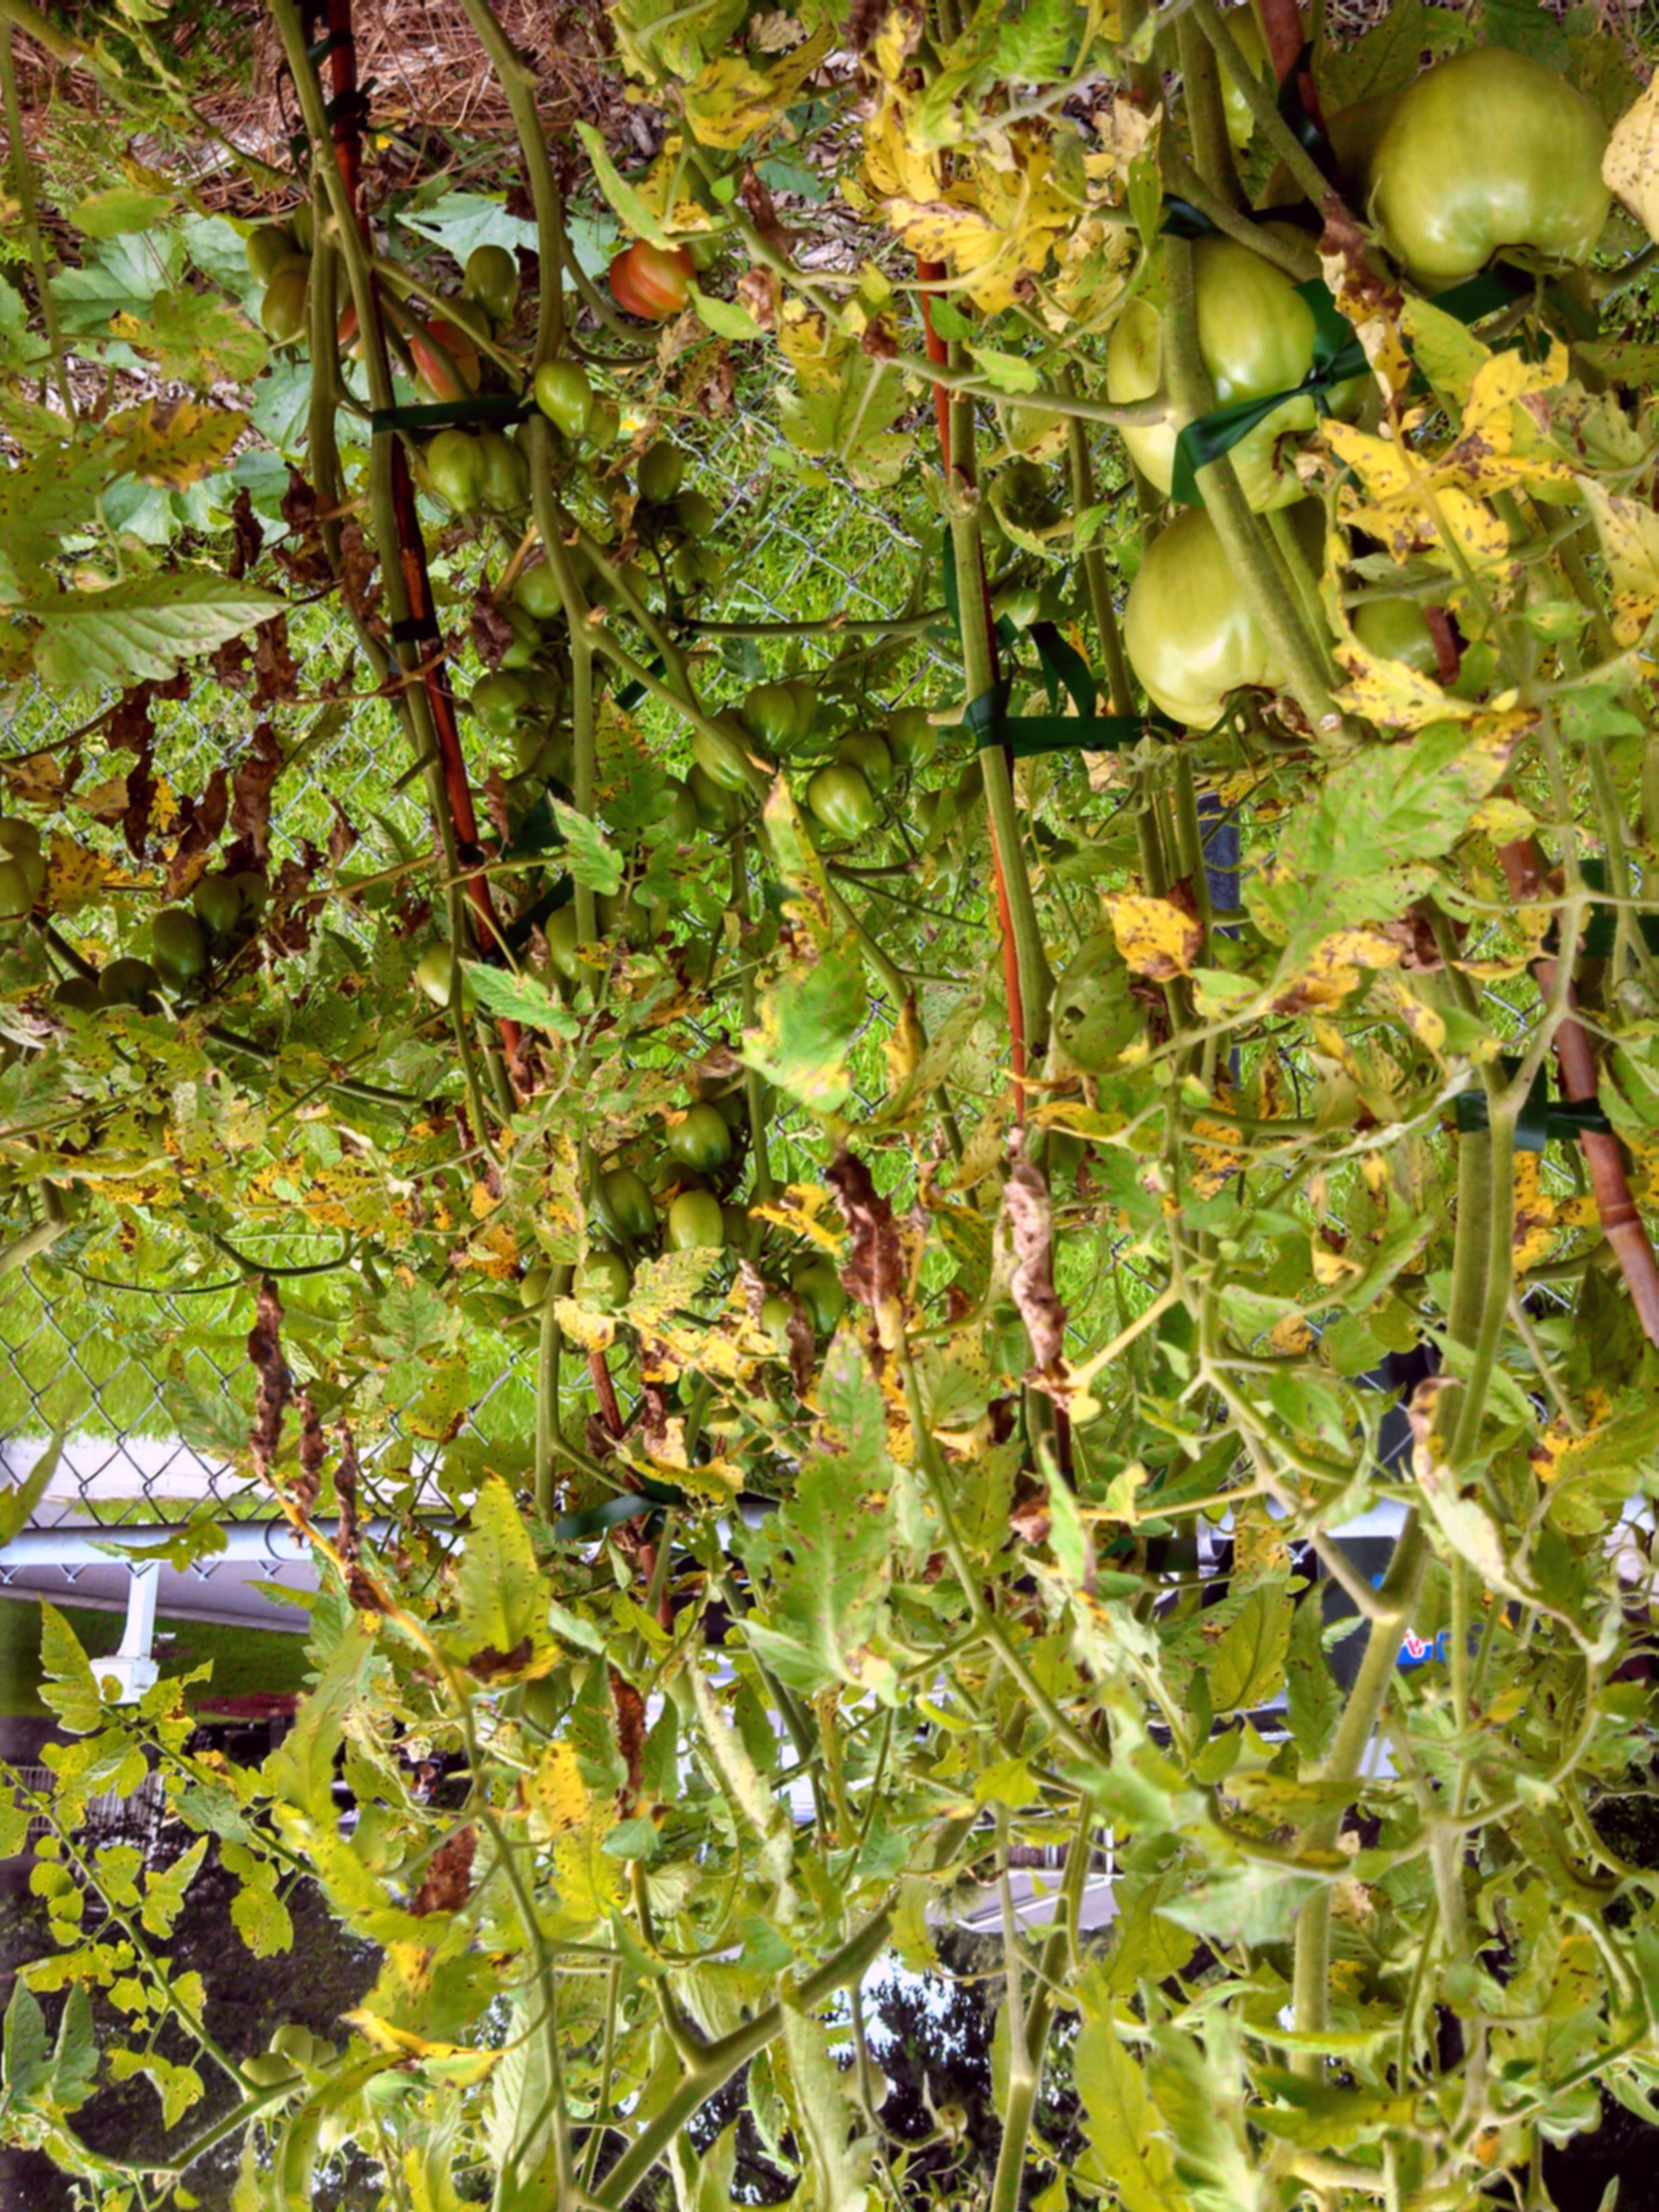Tomato Septoria leaf spot: (1241, 695, 1542, 972), (784, 1296, 908, 1656)
